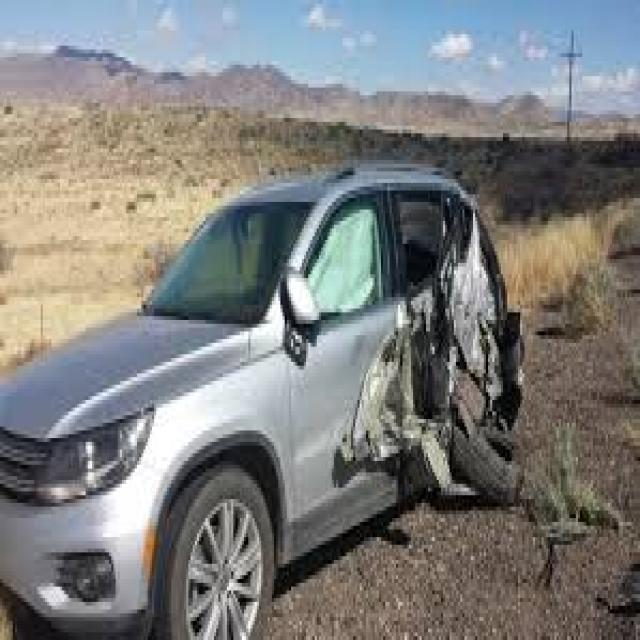severe: (374, 193, 542, 524)
